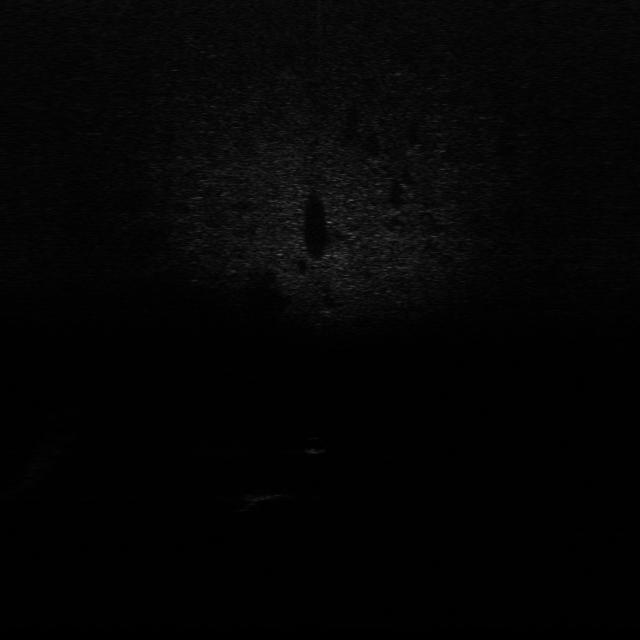ball: (304, 432, 332, 455)
square cage: (244, 482, 292, 502)
